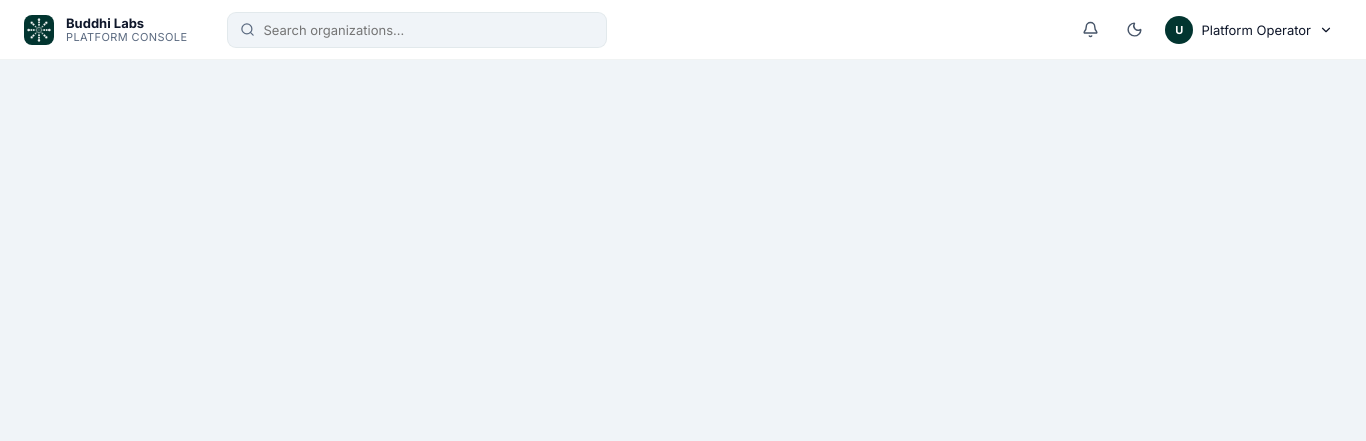
Test: the console top bar › closes the menu on Escape, not only on a click elsewhere
Click the button "U Platform Operator" at [1251, 30], box [1160,10,1342,48]
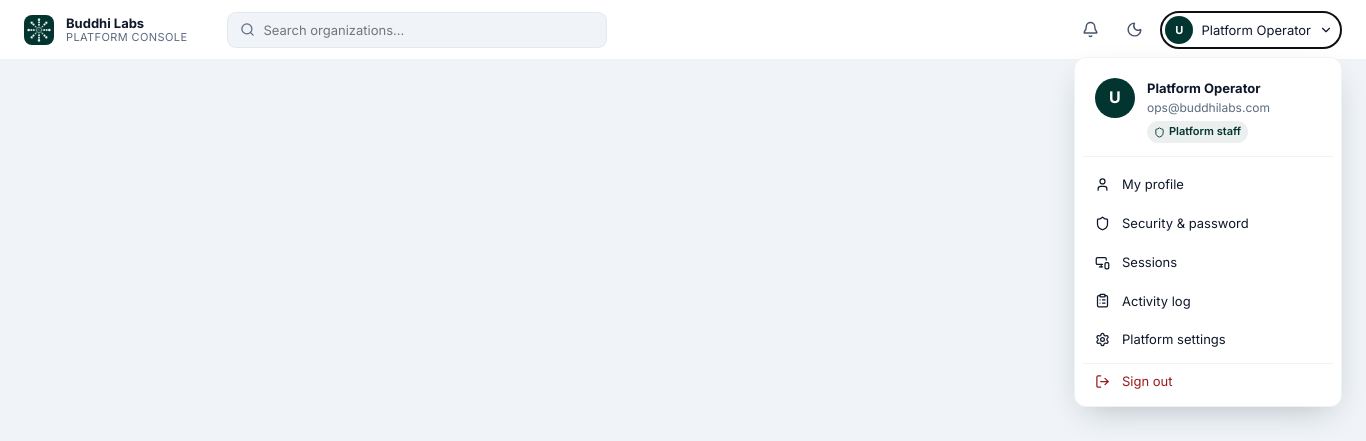
Expected: the menu is shown, [1074,56,1342,407]
Press Escape
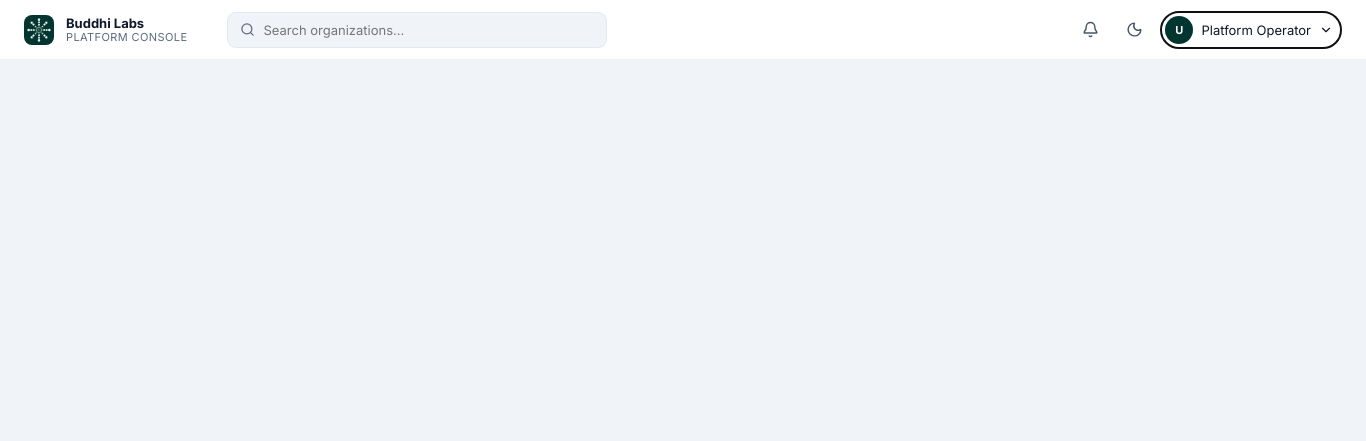
Expected: the menu is gone
